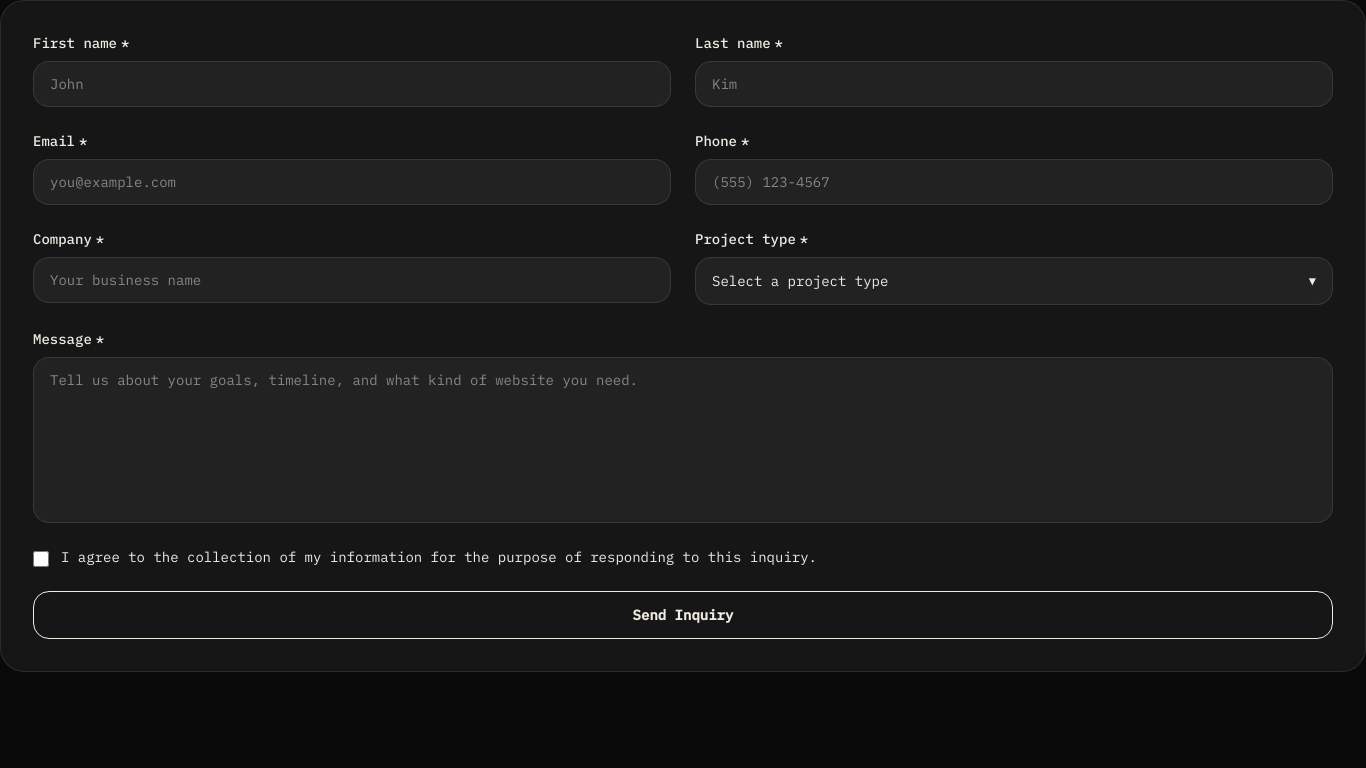
Test: ContactForm › auto-formats the phone number as the user types
Type "5551234567" into the field labelled "Phone*".
click(1014, 182); type("5551234567")  # box top-left (695, 159), bottom-right (1333, 205)
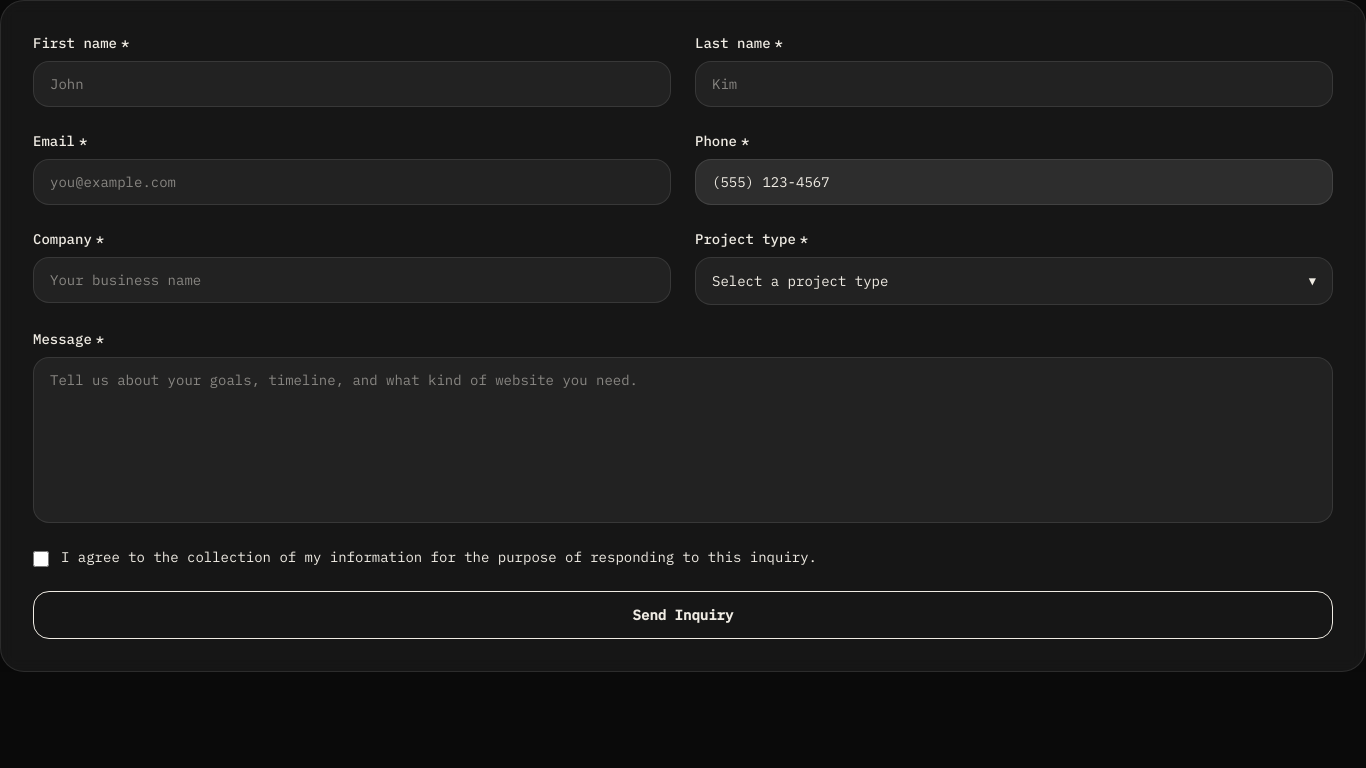
Check: the field labelled "Phone*" holds "(555) 123-4567", box top-left (695, 159), bottom-right (1333, 205)
